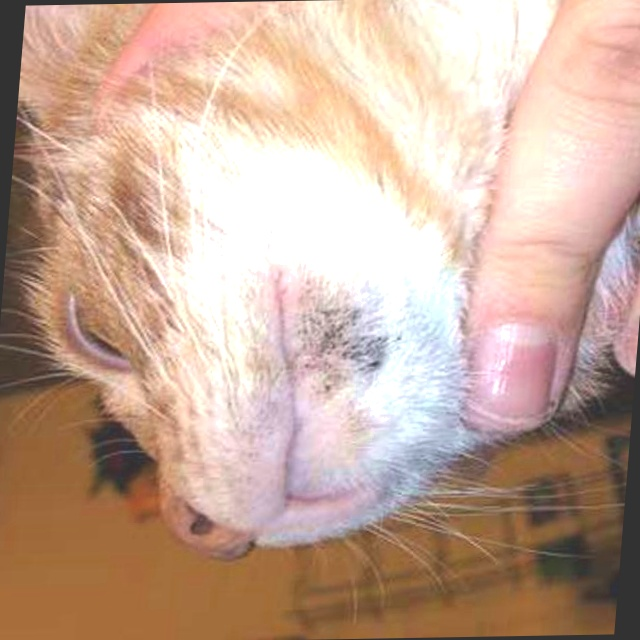acne: (291, 299, 396, 395)
